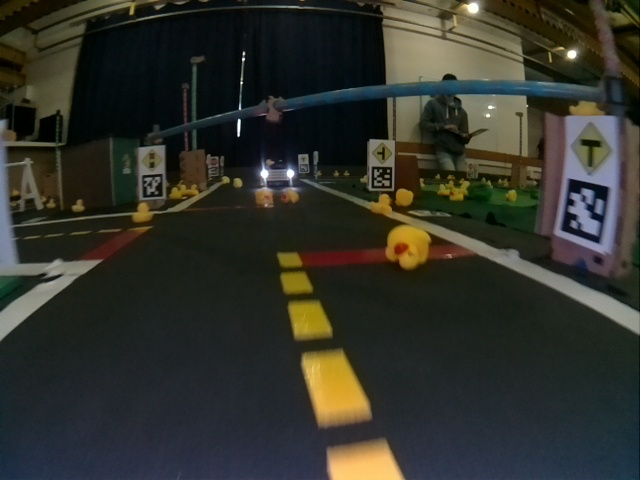Duckie: (386, 226, 431, 269), (370, 194, 392, 214), (396, 189, 413, 206), (134, 206, 152, 222), (257, 189, 272, 206), (282, 190, 299, 203), (234, 178, 243, 188), (506, 191, 516, 200)
Duckiebot: (263, 161, 293, 185)
Intersection sign: (372, 142, 393, 165), (300, 156, 309, 164)
QR code: (561, 180, 610, 243), (142, 174, 164, 197), (372, 167, 393, 188), (300, 164, 308, 173), (209, 168, 218, 176)
Signal sign: (142, 150, 162, 172)
